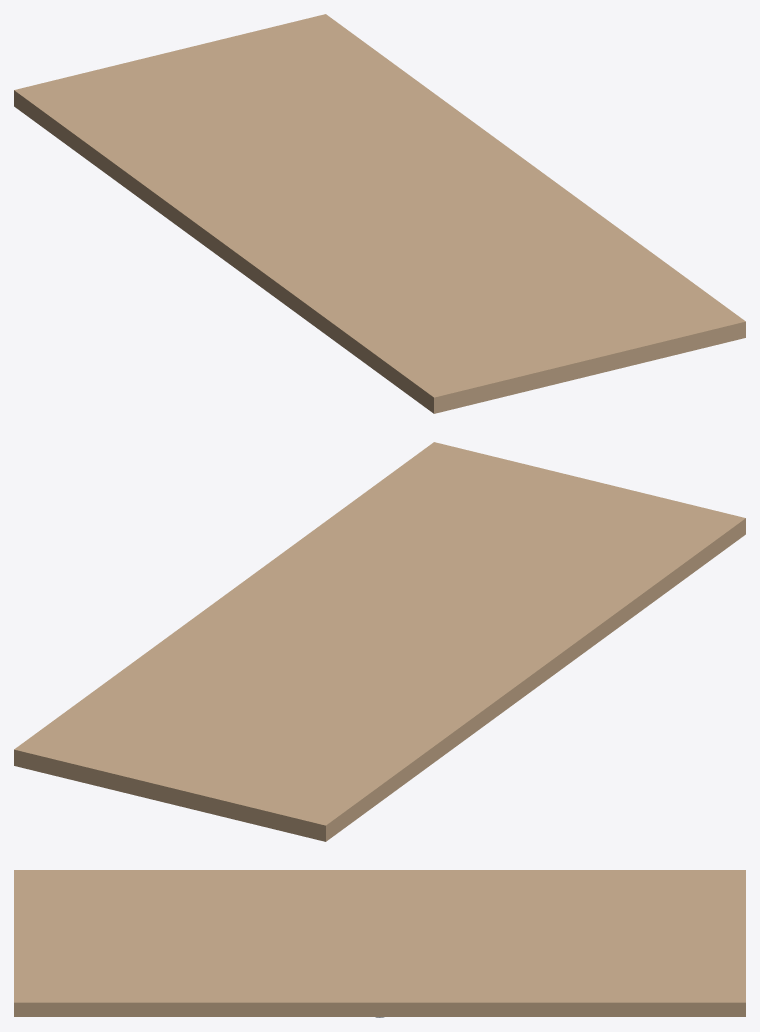
The model's file is SM_Door_Wood_POC.glb.
3 renders of one model, top to bottom at view 1: azimuth 30°, elevation 25°; view 2: azimuth 150°, elevation 25°; view 3: azimuth 270°, elevation 25°, orthographic. The views are drawn at different scales.
Visible parts, largest first — view 1: SM_Door_Wood_POC_00; view 2: SM_Door_Wood_POC_00; view 3: SM_Door_Wood_POC_00.
Boxes of the visible parts, x1,y1,x2,y2 form: SM_Door_Wood_POC_00: [14, 14, 745, 413]; SM_Door_Wood_POC_00: [14, 442, 745, 841]; SM_Door_Wood_POC_00: [14, 870, 745, 1016].
Size of the model in its own units: 0.9 by 0.0875 by 2.1.
